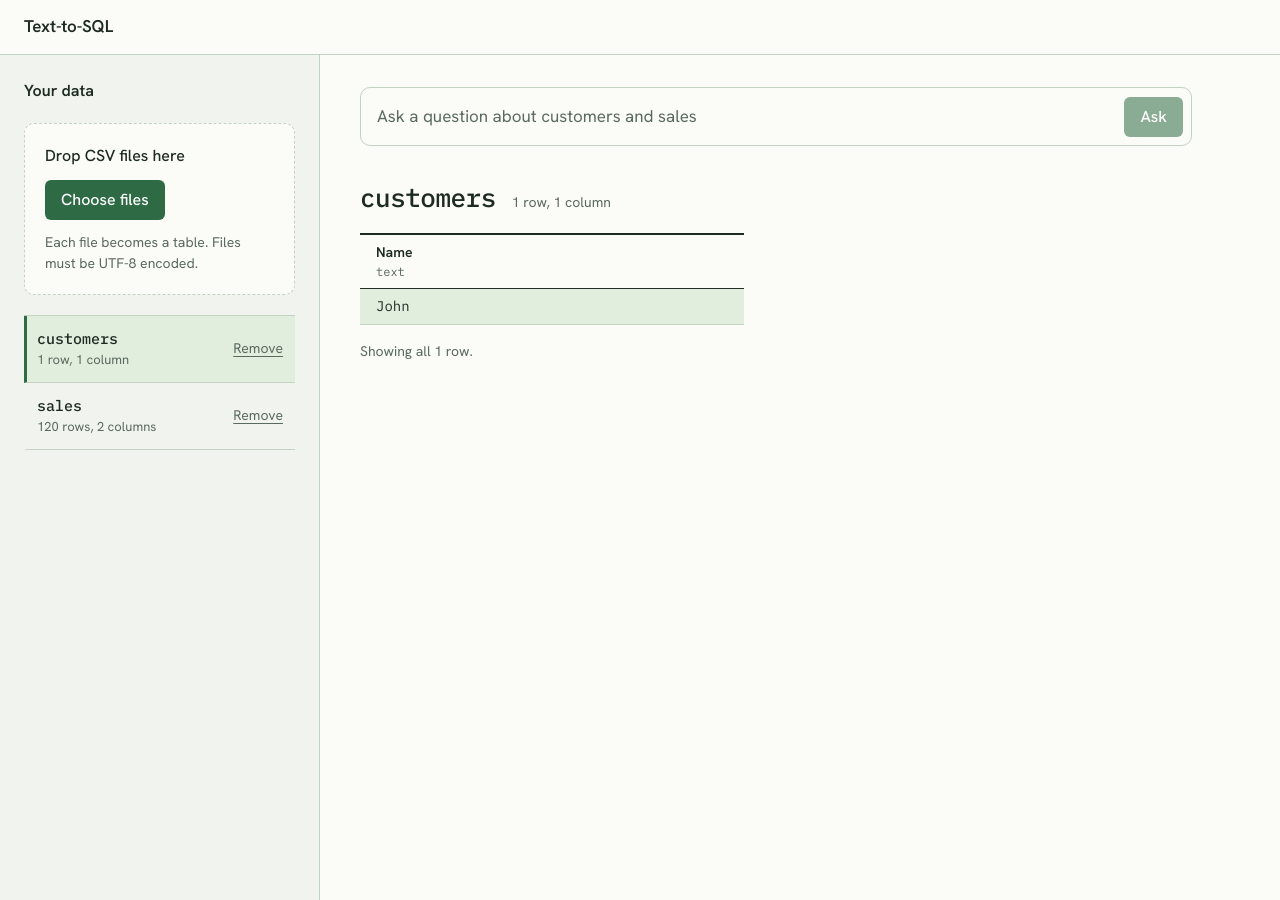
Test: App › restores the stored workspace and switches between tables
Expected: the heading "customers" is shown, [360,178,496,217]
What coordinates should you click on to do the following:
click the button "sales 120 rows, 2 columns"
I would click on:
 (124, 416)
Its box is [27,386,221,444].
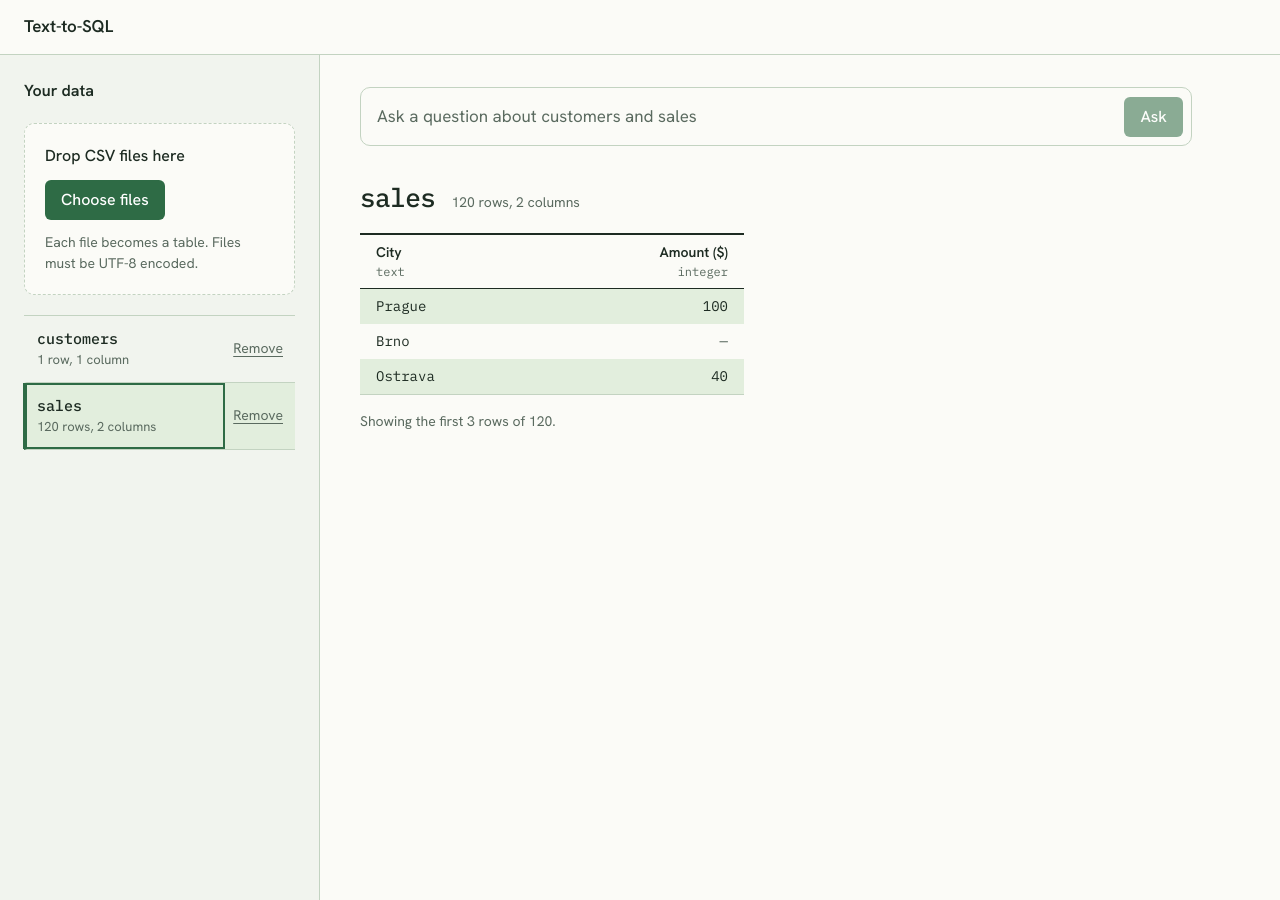
Expected: the heading "sales" is shown, [360,178,435,217]
